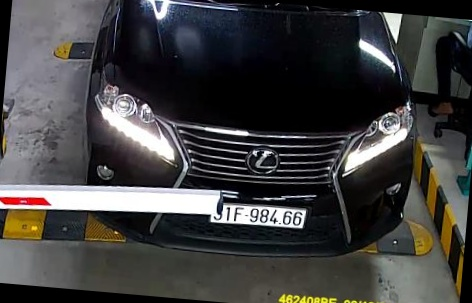plate: (210, 195, 314, 245)
